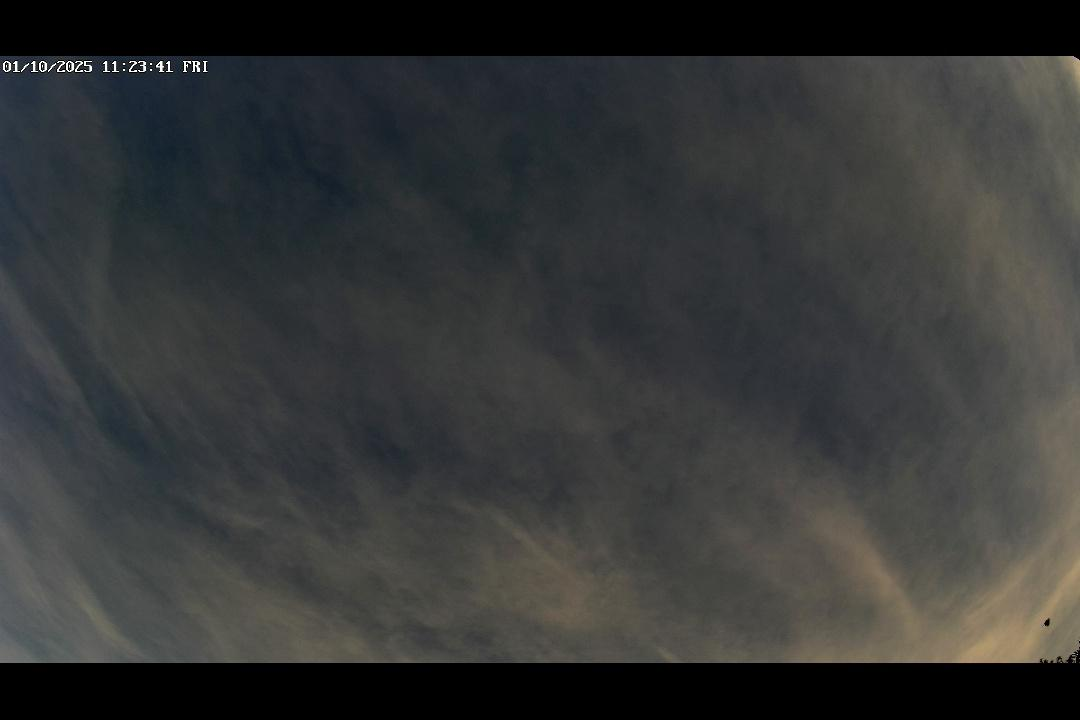WildLife: (1027, 612, 1071, 632)
